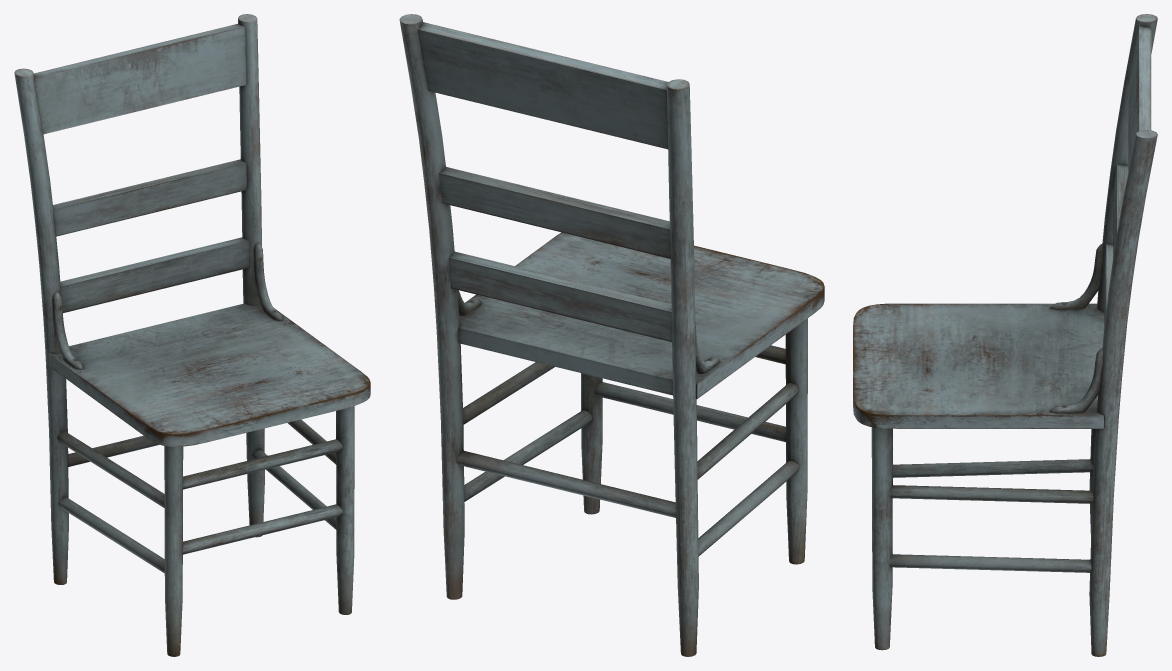
The model's file is chair.glb.
The picture shows the model from 3 angles, left to right: view 1: azimuth 30°, elevation 25°; view 2: azimuth 150°, elevation 25°; view 3: azimuth 270°, elevation 25°; orthographic projection. The views are drawn at different scales.
Parts seen in each view (by area): view 1: painted_wooden_chair_02; view 2: painted_wooden_chair_02; view 3: painted_wooden_chair_02.
Part boxes in pixels (x1=…): painted_wooden_chair_02: x1=14, y1=14, x2=370, y2=656; painted_wooden_chair_02: x1=399, y1=14, x2=824, y2=656; painted_wooden_chair_02: x1=853, y1=14, x2=1157, y2=656.
Bounding box in the file's own units: 0.6394 × 1.26 × 0.6621.
Materials: 1 (1 with a texture image).
